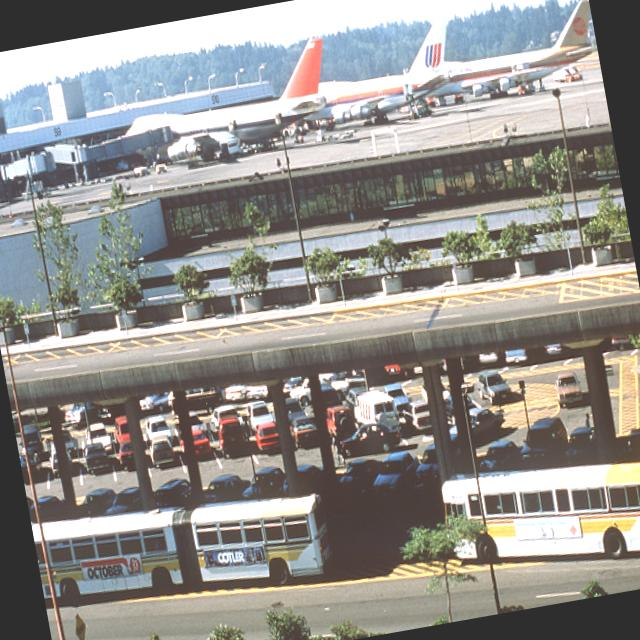Vehicle: (11, 312, 600, 556), (29, 458, 342, 624), (437, 440, 640, 591), (348, 383, 404, 442), (473, 368, 512, 408), (216, 414, 250, 459), (552, 366, 586, 408), (244, 398, 276, 436), (288, 412, 320, 448), (209, 401, 245, 432), (142, 414, 174, 447), (147, 433, 175, 468), (82, 439, 110, 474), (252, 420, 280, 452), (191, 427, 212, 460), (111, 414, 131, 447), (116, 439, 134, 465), (50, 450, 60, 470)
